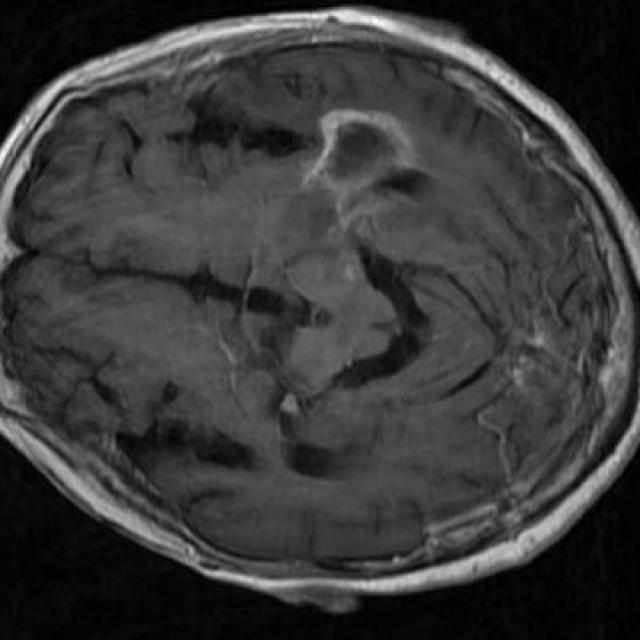glioma: (299, 109, 419, 216)
